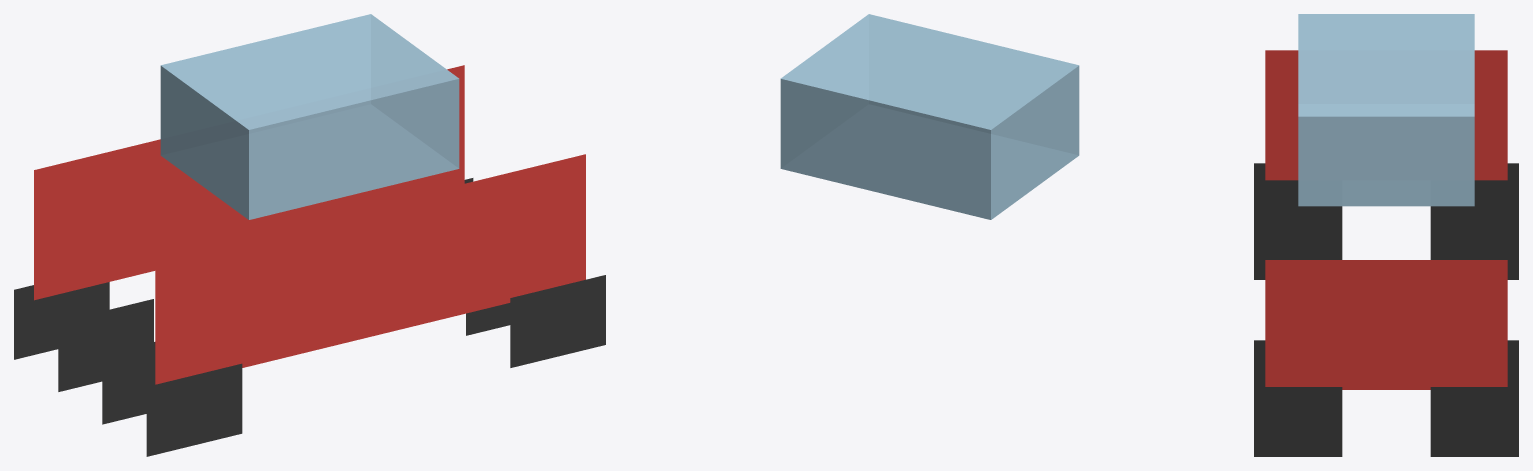
The model's file is voxel-shandong-car.gltf.
3 renders of one model, left to right at view 1: azimuth 30°, elevation 25°; view 2: azimuth 150°, elevation 25°; view 3: azimuth 270°, elevation 25°, orthographic.
Size of the model in its own units: 0.96 by 0.56 by 0.48.
